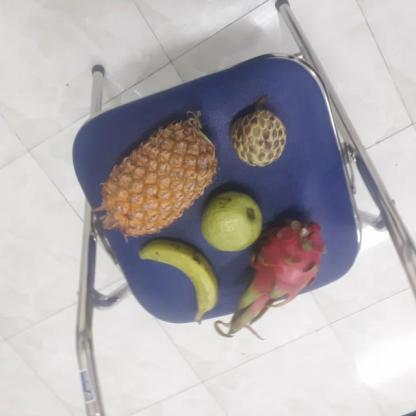annona: (224, 108, 286, 167)
banana: (134, 240, 217, 322)
guava: (199, 192, 264, 253)
pineapple: (96, 112, 217, 236)
pitaya: (229, 218, 322, 319)
